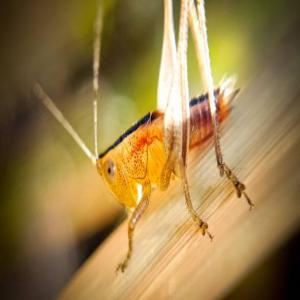locust: (84, 8, 244, 256)
